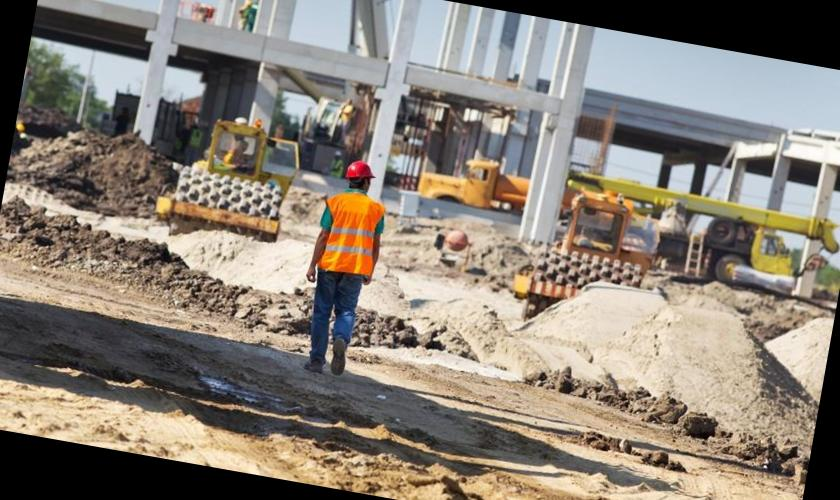Vest: (308, 181, 390, 285)
